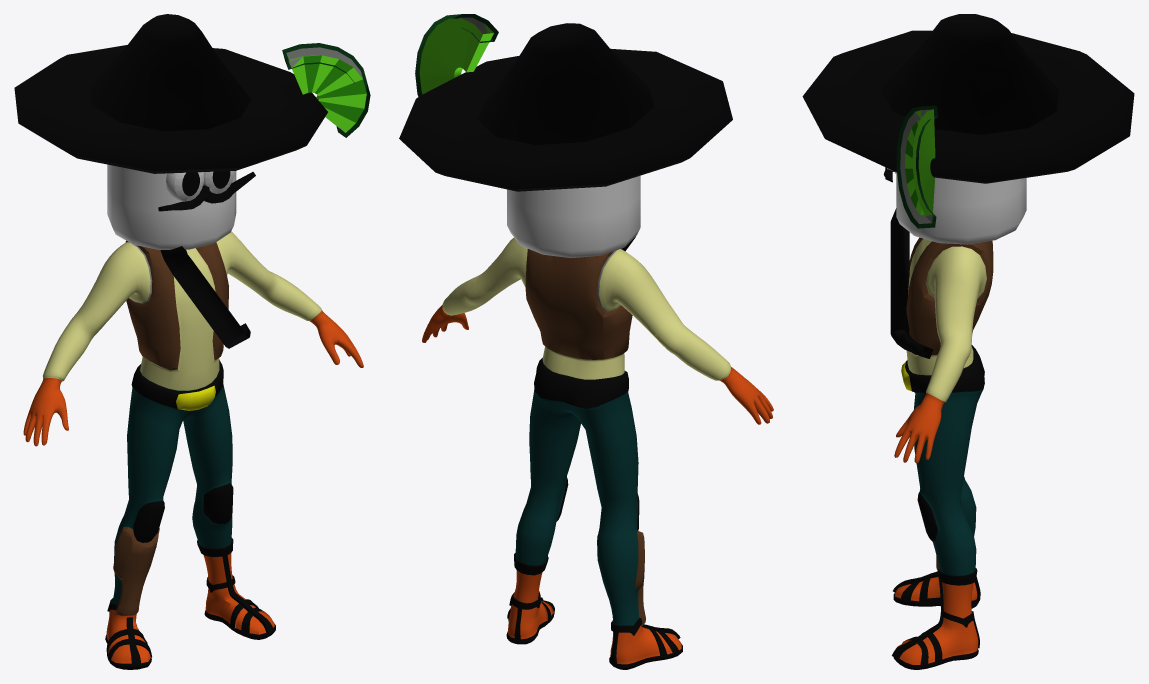
The model's file is revmej.fbx.
3 views of the same model, side by side, from view 1: azimuth 30°, elevation 25°; view 2: azimuth 150°, elevation 25°; view 3: azimuth 270°, elevation 25° (orthographic). The views are drawn at different scales.
Parts seen in each view (by area): view 1: Revoluvionado, Revolucion, Revolucionario; view 2: Revoluvionado, Revolucion, Revolucionario; view 3: Revolucion, Revoluvionado, Revolucionario.
Boxes of the visible parts, x1,y1,x2,y2 form: Revoluvionado: [23, 231, 363, 669]; Revolucion: [14, 14, 370, 348]; Revolucionario: [107, 164, 255, 250]; Revoluvionado: [422, 237, 773, 669]; Revolucion: [399, 14, 732, 251]; Revolucionario: [507, 175, 640, 258]; Revolucion: [802, 14, 1134, 358]; Revoluvionado: [892, 237, 993, 669]; Revolucionario: [883, 167, 1026, 244].
Size of the model in its own units: 137 by 231 by 113.
